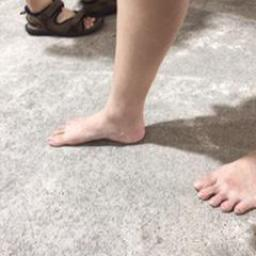Medial View -Right Foot-: (43, 85, 158, 160)
